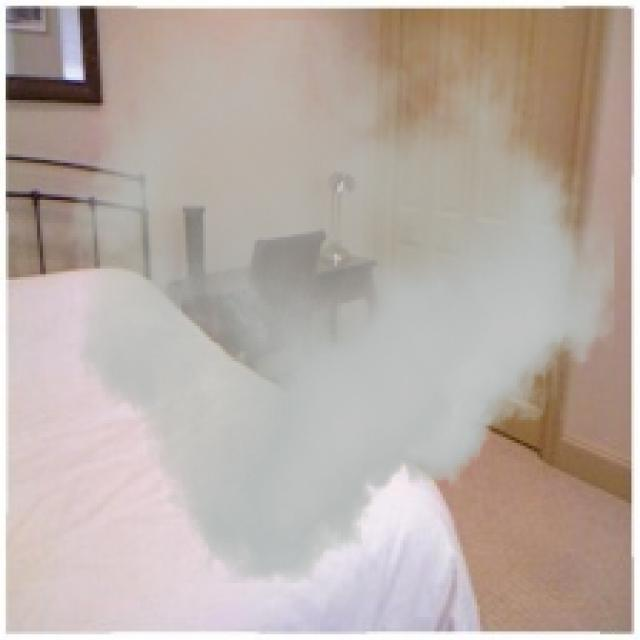Smoke: (68, 20, 614, 583)
